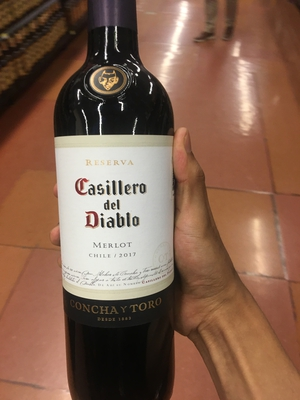casillero del diablo merlot: (43, 6, 197, 400)
